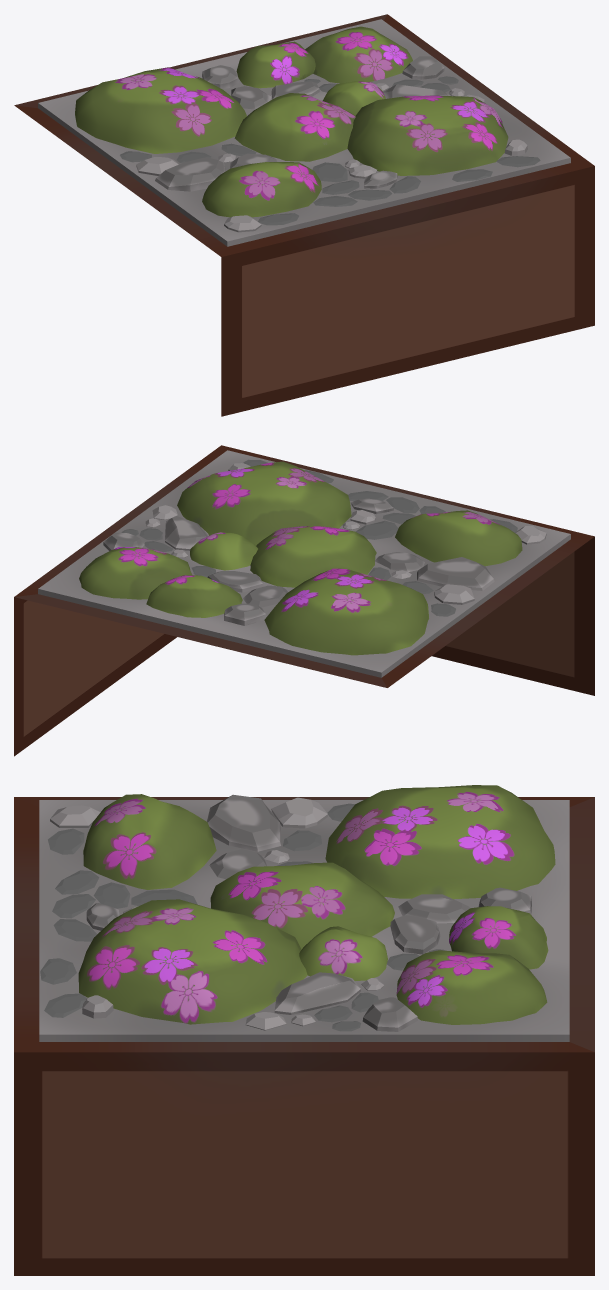
Rendered from decoration big.glb.
The picture shows the model from 3 angles, top to bottom: view 1: azimuth 30°, elevation 25°; view 2: azimuth 150°, elevation 25°; view 3: azimuth 270°, elevation 25°; orthographic projection. The views are drawn at different scales.
Parts seen in each view (by area): view 1: Cube.014, Sphere.002, Sphere.003; view 2: Cube.014, Sphere.002, Sphere.003; view 3: Cube.014, Sphere.002, Sphere.003.
Part boxes in pixels (bbox=[...]): Cube.014: bbox=[14, 14, 594, 416]; Sphere.002: bbox=[75, 26, 527, 232]; Sphere.003: bbox=[120, 76, 540, 225]; Cube.014: bbox=[14, 445, 594, 756]; Sphere.002: bbox=[79, 461, 546, 655]; Sphere.003: bbox=[121, 459, 517, 616]; Cube.014: bbox=[14, 797, 594, 1275]; Sphere.002: bbox=[50, 785, 555, 1031]; Sphere.003: bbox=[40, 803, 444, 1031].
Size of the model in its own units: 1.04 by 0.5236 by 0.9971.
Materials: 3 (2 with a texture image).
